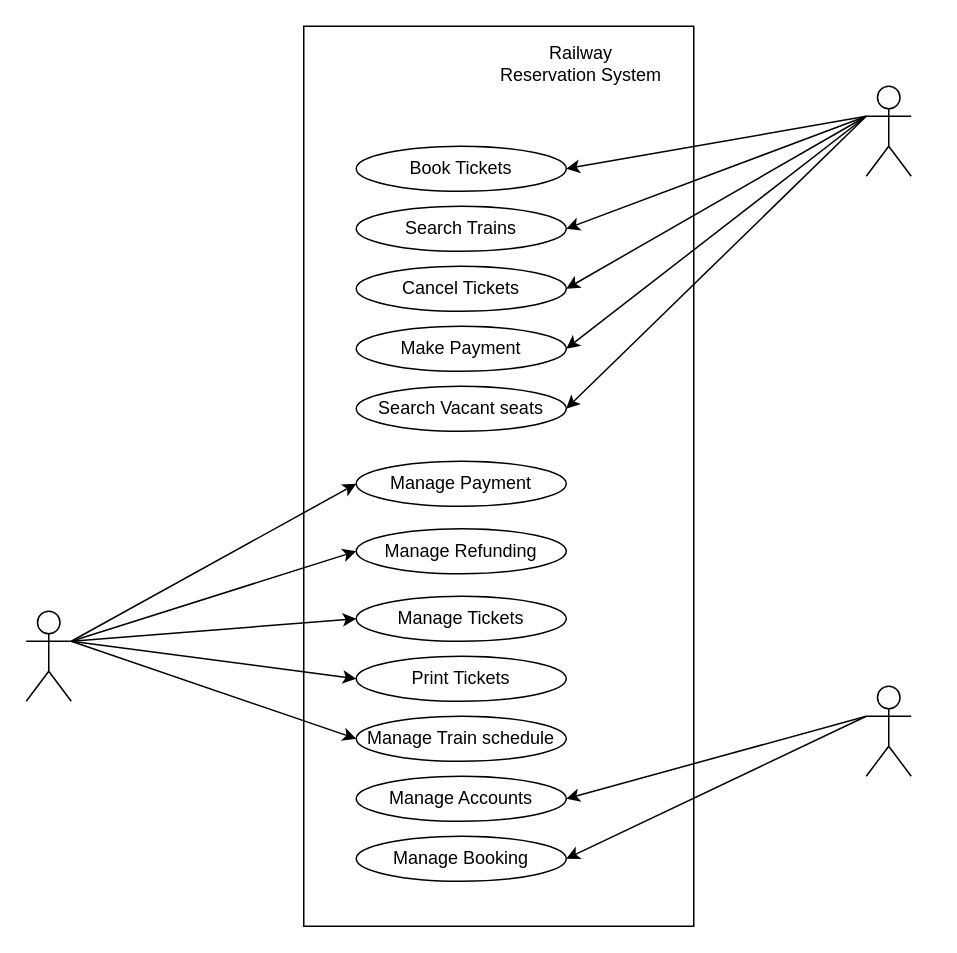
Some shapes in this 957 by 953 pixel diagram are drawn without their labels. Here are the shapes that lost their labels. From the top down, the centre of each, then its label:
the point at 888,130: Passenger
the point at 48,655: Clerk
the point at 888,730: Admin
